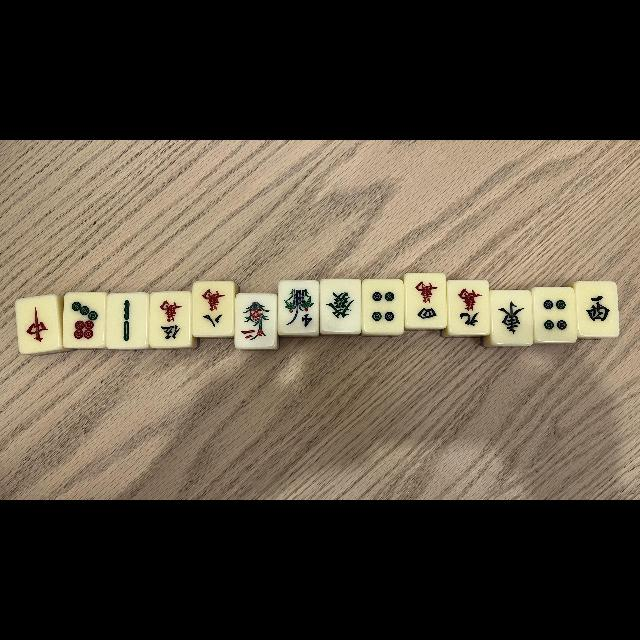b2: (108, 295, 146, 347)
c4: (406, 274, 446, 326)
c5: (151, 294, 191, 346)
c8: (192, 282, 232, 336)
c9: (448, 280, 488, 334)
d4: (363, 280, 403, 332), (535, 288, 575, 340)
d7: (64, 294, 104, 346)
dg: (321, 280, 359, 332)
dr: (17, 298, 57, 350)
f4-s: (279, 280, 317, 334)
s2-s: (237, 294, 275, 346)
we: (491, 291, 532, 343)
ww: (578, 282, 618, 336)
